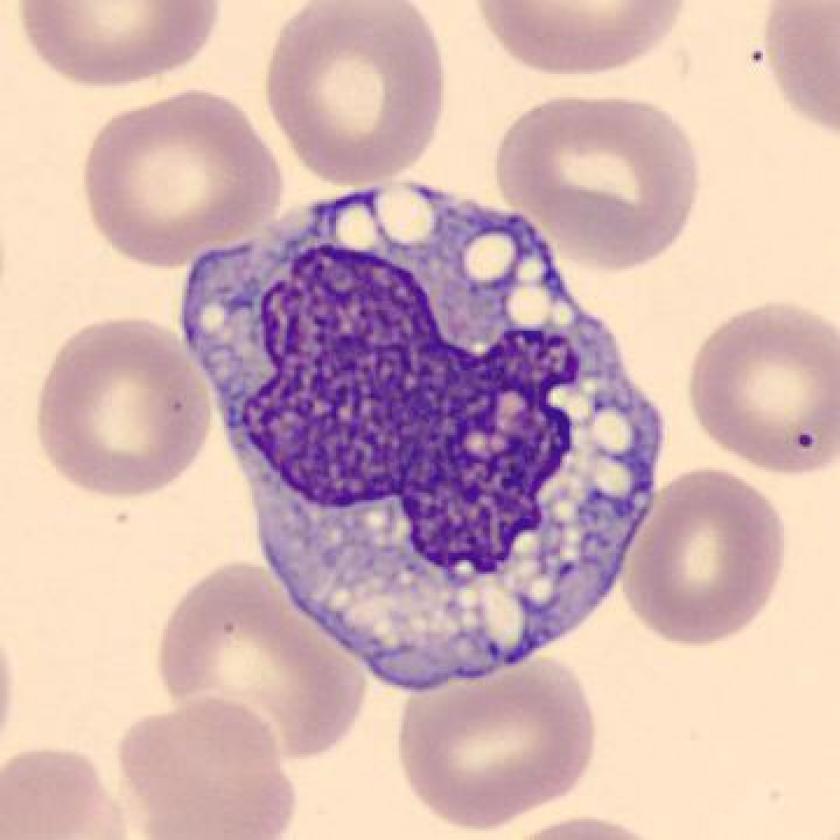monocyte: (169, 163, 678, 700)
